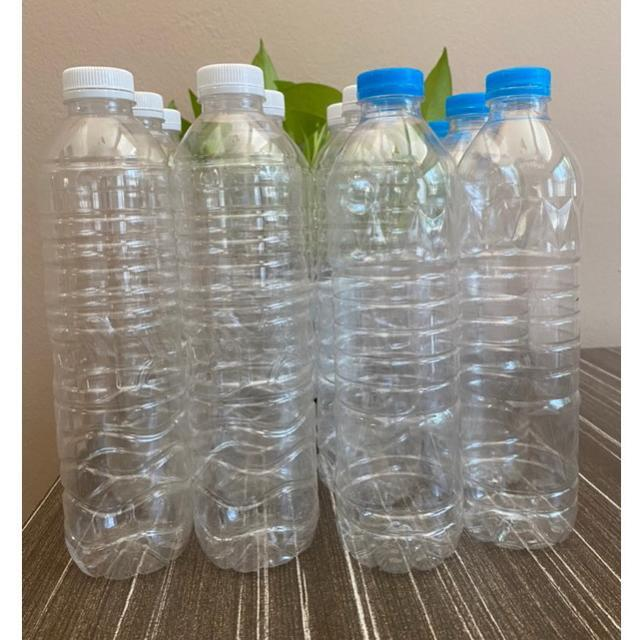PET Bottle: (321, 60, 484, 588), (164, 46, 324, 555), (42, 49, 190, 582), (456, 72, 608, 564)
